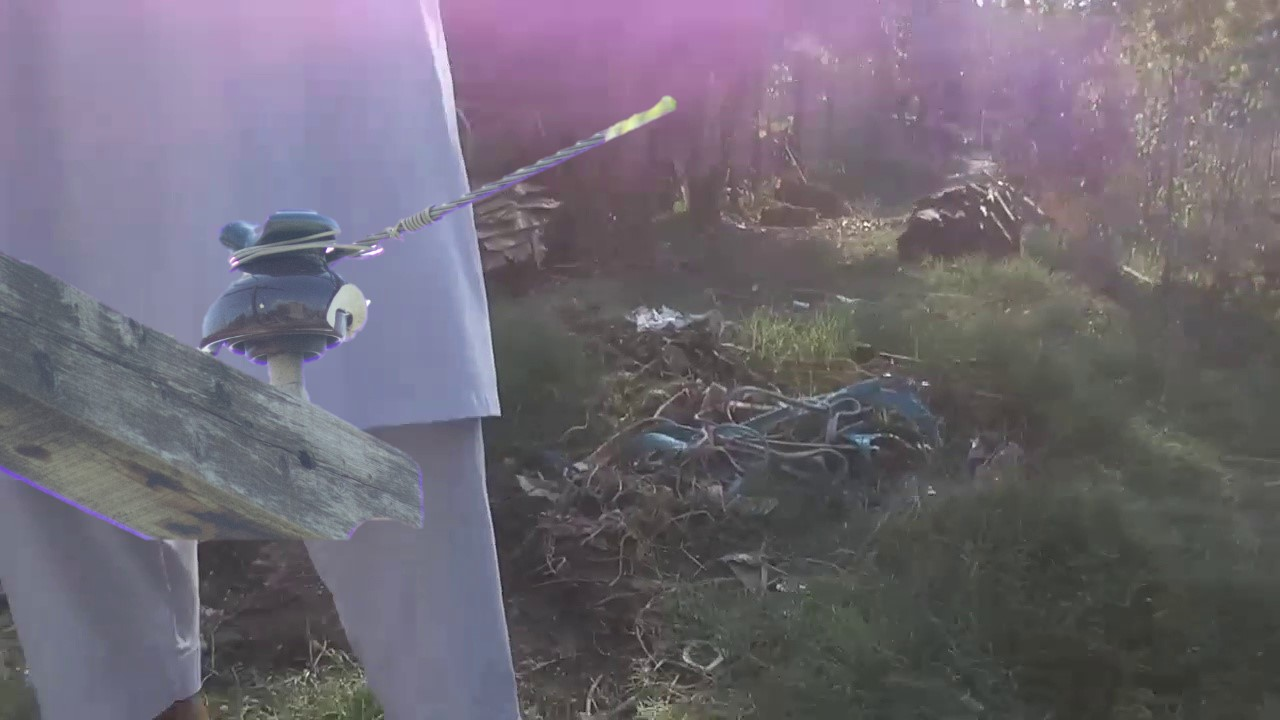defect_pin: (187, 205, 376, 361)
